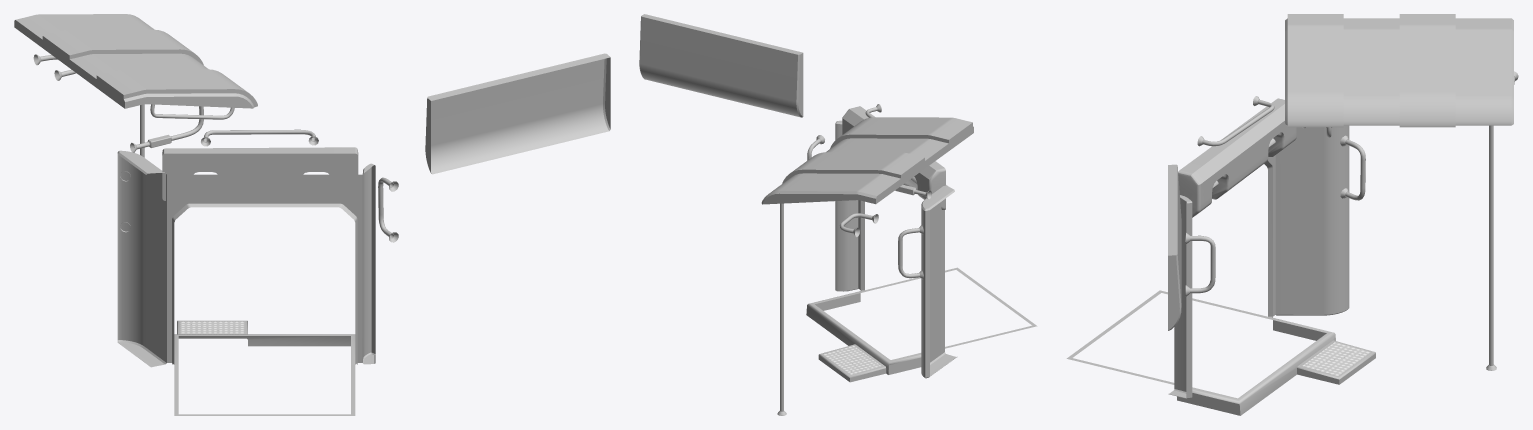
Rendered from StreetCanopyDoorEntrance.fbx.
3 renders of one model, left to right at view 1: azimuth 30°, elevation 25°; view 2: azimuth 150°, elevation 25°; view 3: azimuth 270°, elevation 25°, orthographic. The views are drawn at different scales.
Parts seen in each view (by area): view 1: StreetCanopyDoorEntrance, StreetCanopyDoorBridgeFloor; view 2: StreetCanopyDoorEntrance, StreetCanopyDoorBridgeFloor; view 3: StreetCanopyDoorEntrance, StreetCanopyDoorBridgeFloor.
Part boxes in pixels (x1,y1,x2,y2): StreetCanopyDoorEntrance: (14,14,610,415); StreetCanopyDoorBridgeFloor: (180,321,244,334); StreetCanopyDoorEntrance: (639,14,1037,415); StreetCanopyDoorBridgeFloor: (823,345,881,374); StreetCanopyDoorEntrance: (1066,14,1518,415); StreetCanopyDoorBridgeFloor: (1302,342,1370,375).
Size of the model in its own units: 595 by 369 by 512.
